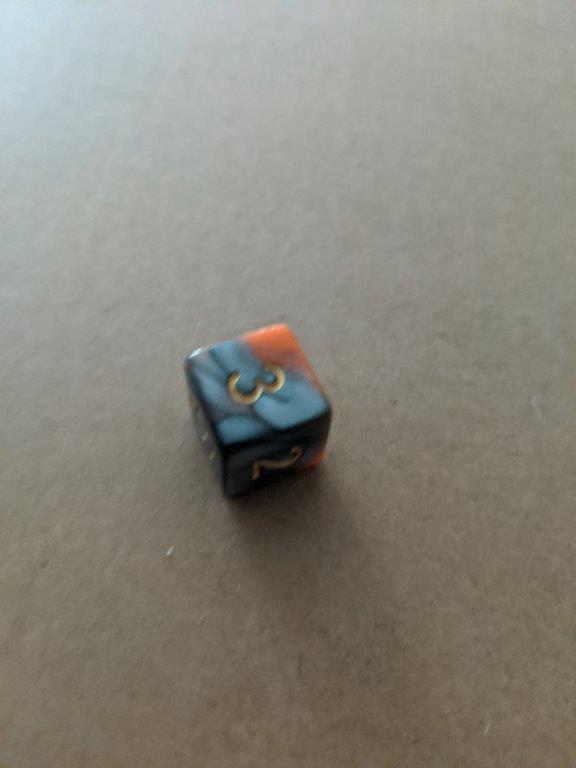d6-3: (184, 320, 333, 495)
